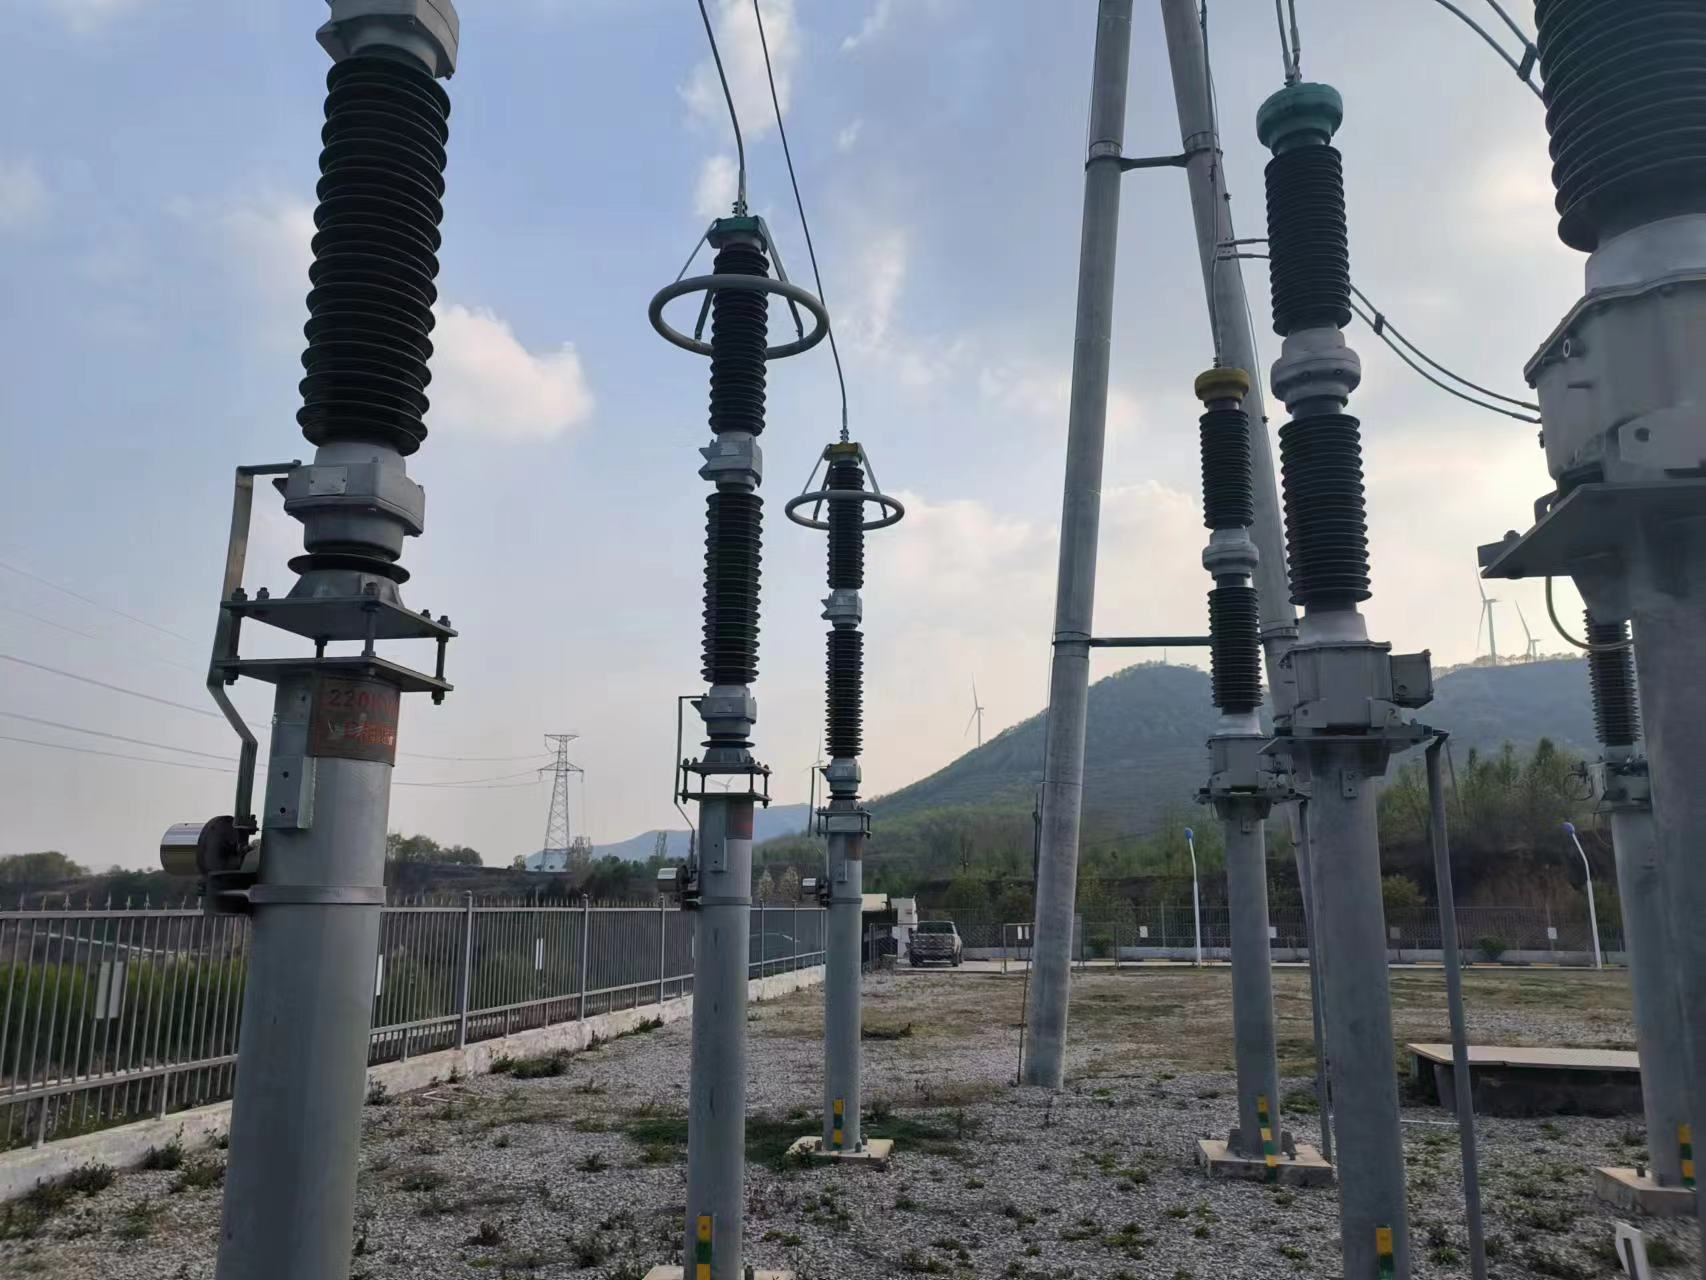Arrester: (645, 210, 832, 713), (786, 437, 907, 805)
